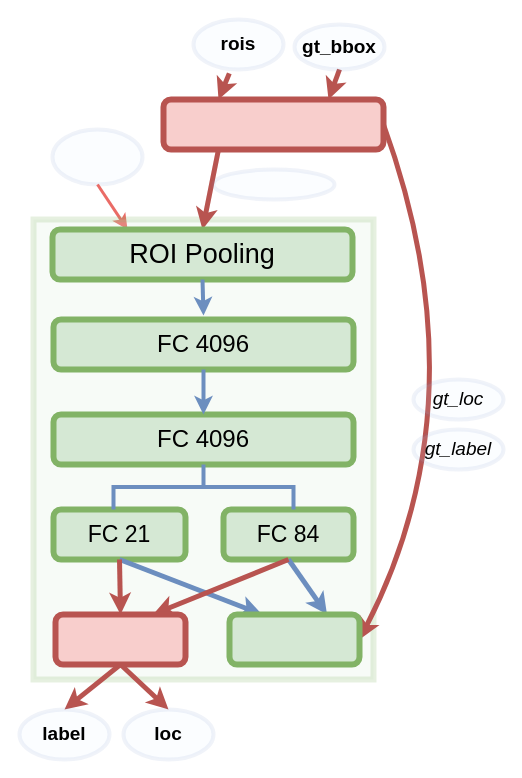
The diagram is 522 pixels wide and 778 high, and some of its shapes have lost their labels. Here are the shapes that lost their labels. From the top down, the box of each, then its label:
(160, 96, 386, 152): ProposalTargetCreator
(50, 127, 144, 186): features
(211, 167, 336, 201): sample_rois
(52, 611, 188, 667): supress
(226, 611, 362, 667): roi_loss
